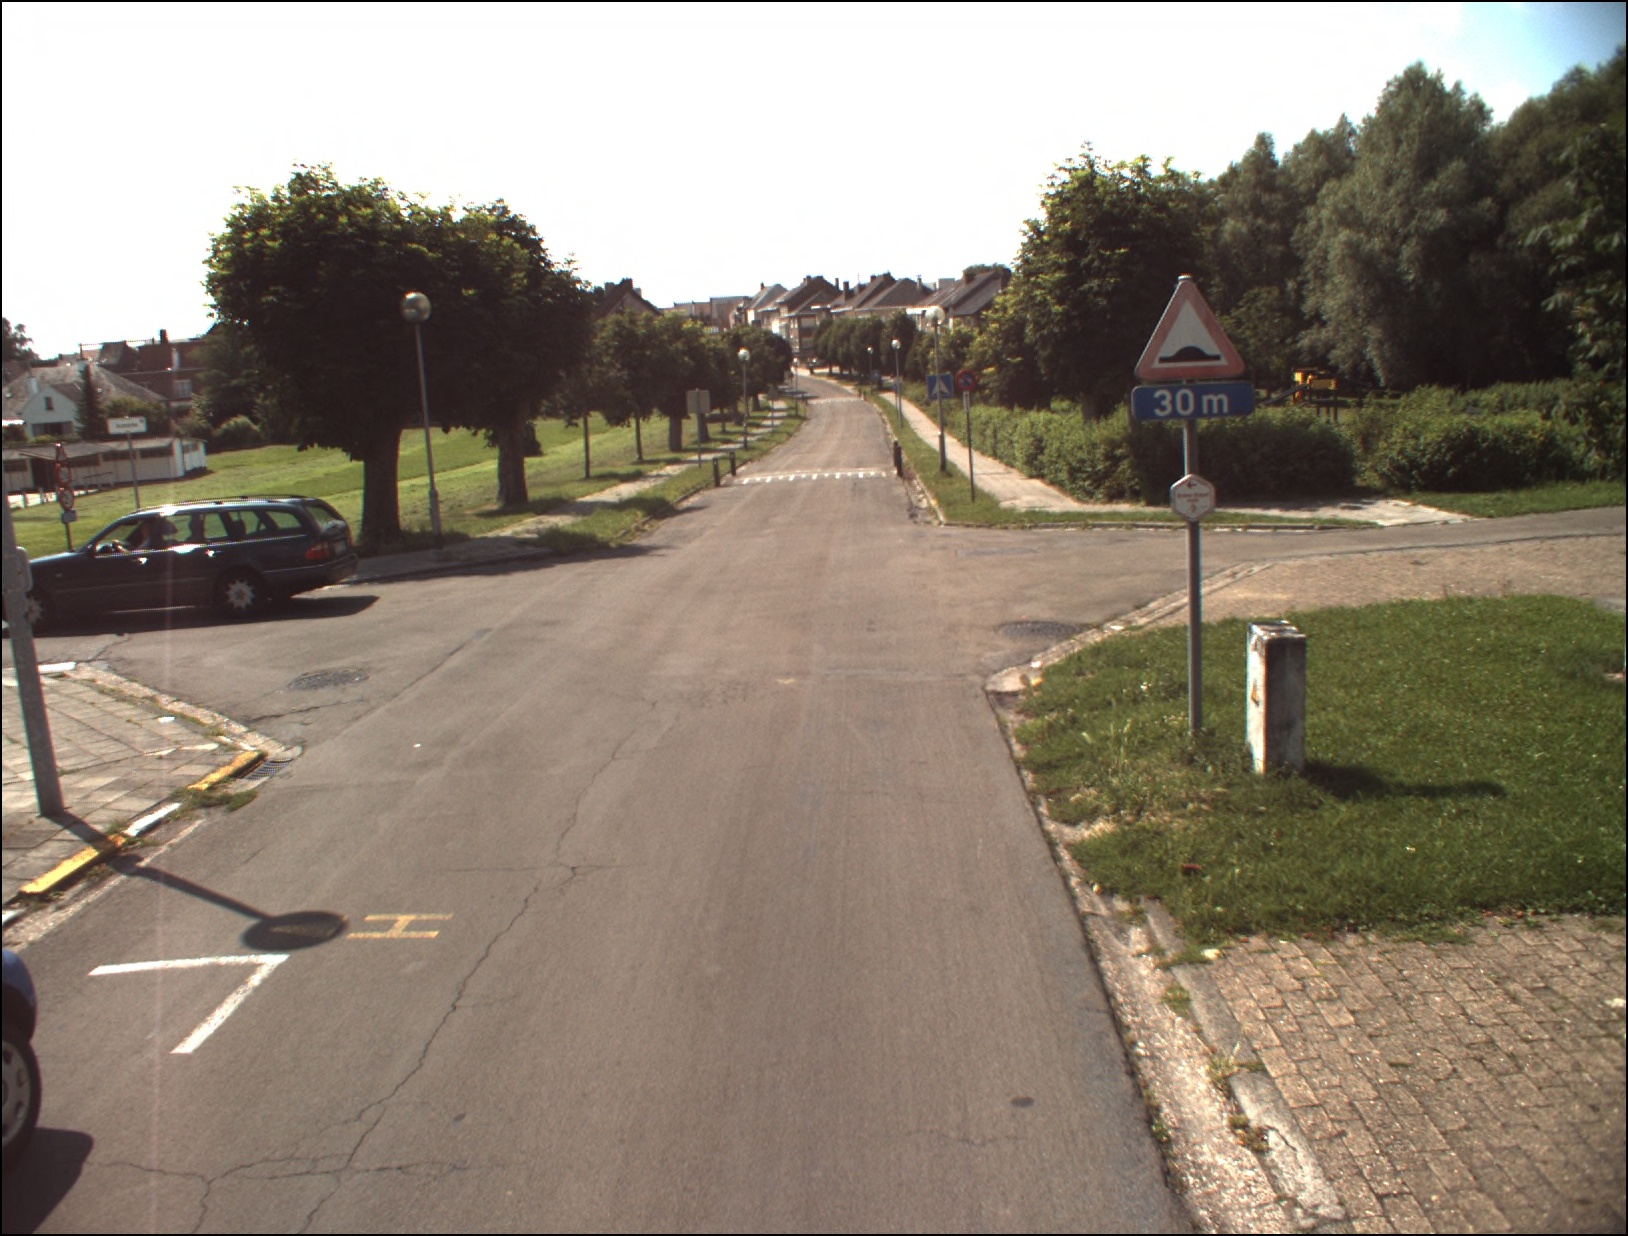speedbump: (1133, 274, 1248, 383)
